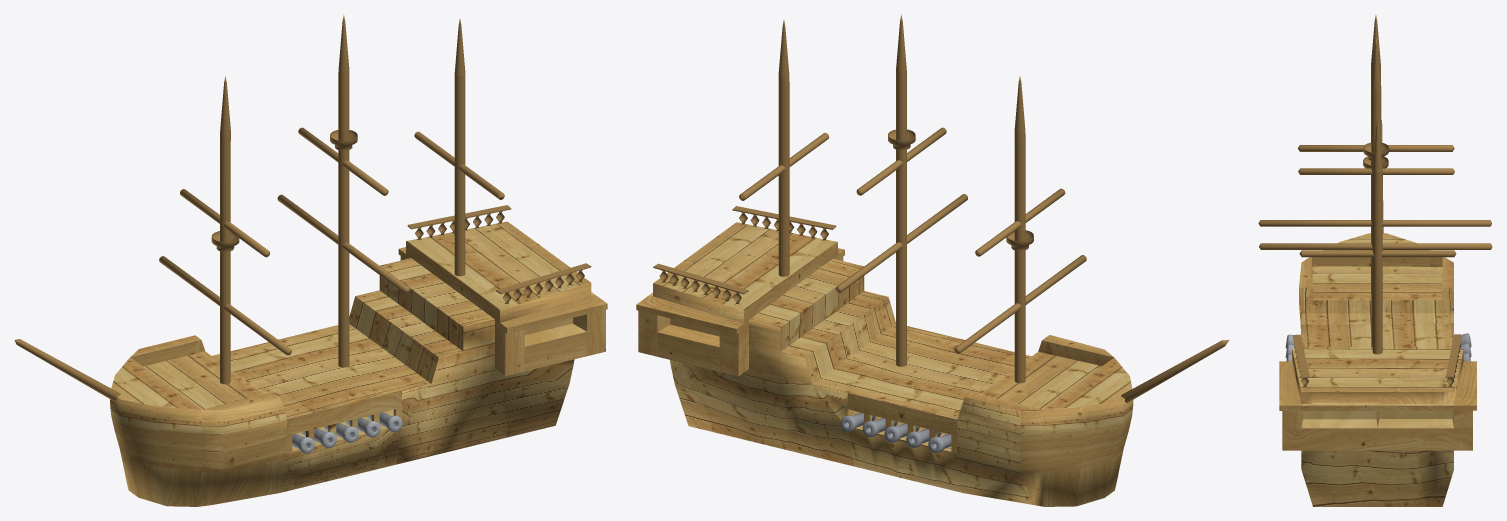
File: Ship50.obj
3 renders of one model, left to right at view 1: azimuth 30°, elevation 25°; view 2: azimuth 150°, elevation 25°; view 3: azimuth 270°, elevation 25°, orthographic. The views are drawn at different scales.
Visible parts, largest first — view 1: Cube.001; view 2: Cube.001; view 3: Cube.001.
Boxes of the visible parts, box(x1,y1,x2,y2) form: Cube.001: box(14, 14, 607, 506); Cube.001: box(636, 14, 1229, 506); Cube.001: box(1258, 15, 1492, 506).
Bounding box in the file's own units: 3.35 × 2.55 × 1.38.
